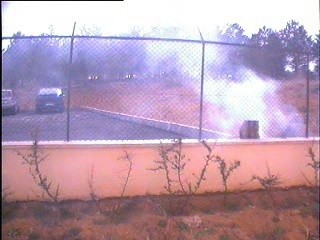smoke: (146, 21, 305, 137)
